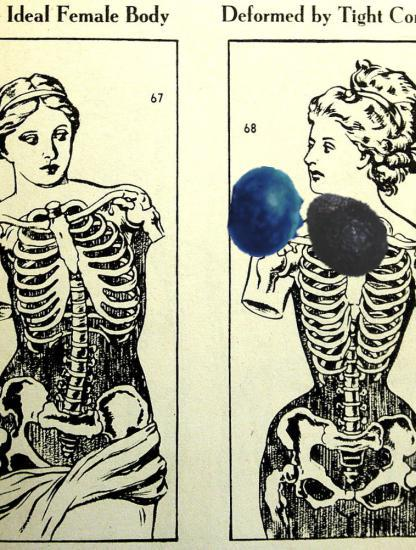Avocado: (296, 188, 391, 283)
Huckleberry: (221, 167, 313, 259)
